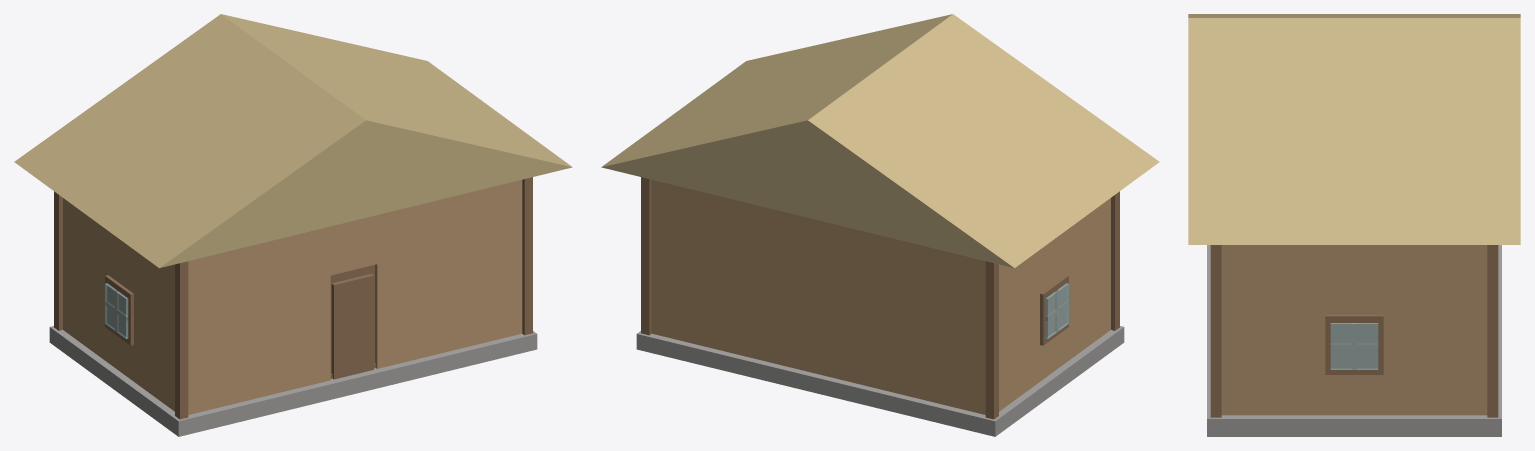
The model's file is BLD-barn-01.glb.
3 views of the same model, side by side, from view 1: azimuth 30°, elevation 25°; view 2: azimuth 150°, elevation 25°; view 3: azimuth 270°, elevation 25° (orthographic). The views are drawn at different scales.
Visible parts, largest first — view 1: BLD-barn-01; view 2: BLD-barn-01; view 3: BLD-barn-01.
Boxes of the visible parts, box(x1,y1,x2,y2) form: BLD-barn-01: box(14, 14, 572, 436); BLD-barn-01: box(601, 14, 1159, 436); BLD-barn-01: box(1188, 14, 1520, 436).
Size of the model in its own units: 8.88 by 5.72 by 5.4.
